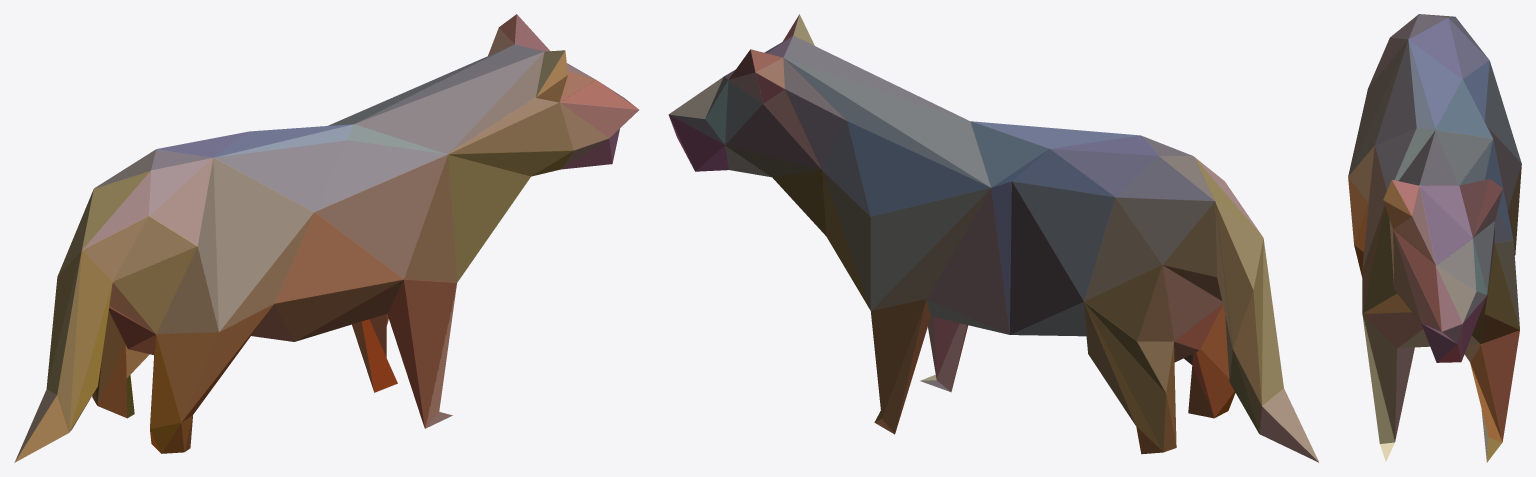
File: SpecieModel6.fbx
The picture shows the model from 3 angles, left to right: view 1: azimuth 30°, elevation 25°; view 2: azimuth 150°, elevation 25°; view 3: azimuth 270°, elevation 25°; orthographic projection.
Visible parts, largest first — view 1: Mesh_0; view 2: Mesh_0; view 3: Mesh_0.
Boxes of the visible parts, x1,y1,x2,y2 form: Mesh_0: [14, 14, 639, 462]; Mesh_0: [668, 14, 1318, 462]; Mesh_0: [1348, 14, 1521, 462].
Size of the model in its own units: 168 by 87.74 by 39.6.
1 material, 1 textured.
